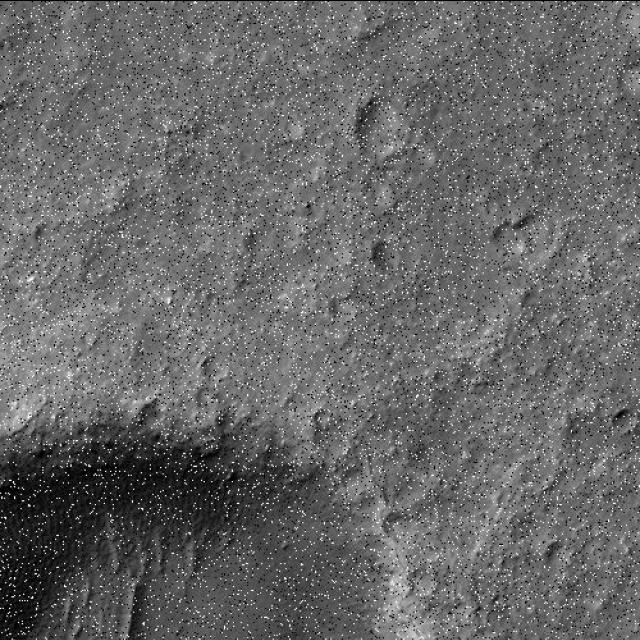crater: (0, 384, 457, 640), (0, 0, 69, 141), (349, 87, 418, 169), (339, 0, 449, 37), (364, 233, 430, 293), (120, 0, 204, 37), (1, 0, 34, 27), (0, 0, 28, 28)
